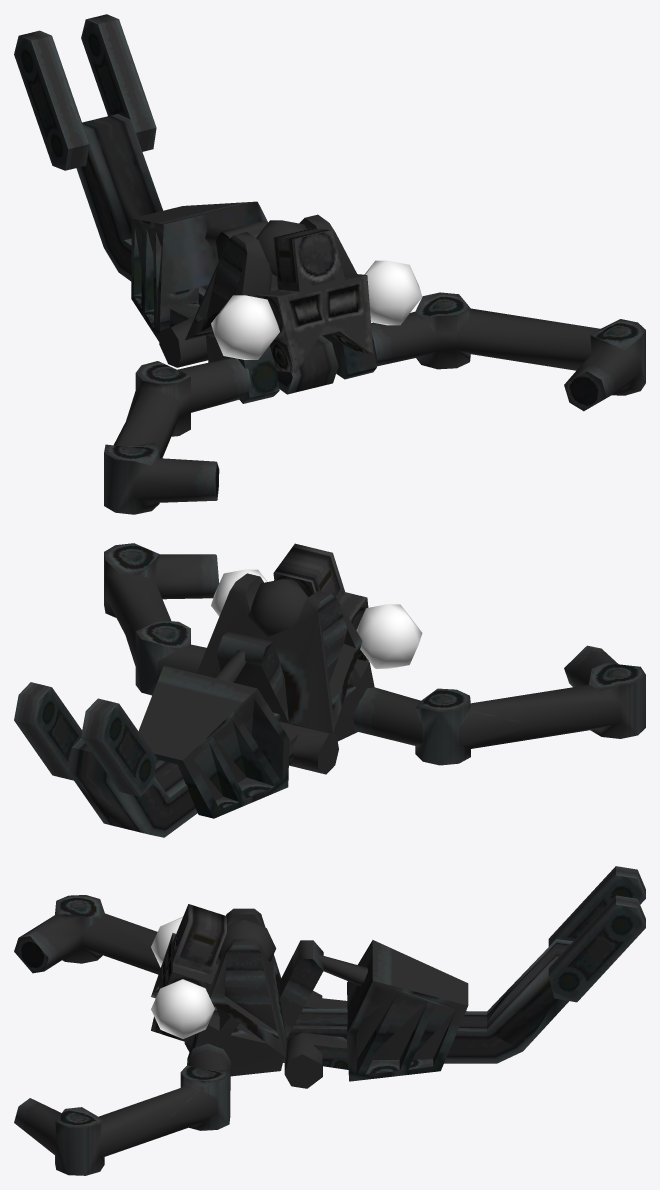
File: lsrp.obj
The picture shows the model from 3 angles, top to bottom: view 1: azimuth 30°, elevation 25°; view 2: azimuth 150°, elevation 25°; view 3: azimuth 270°, elevation 25°; orthographic projection. The views are drawn at different scales.
Size of the model in its own units: 2.58 by 0.8981 by 2.96.
